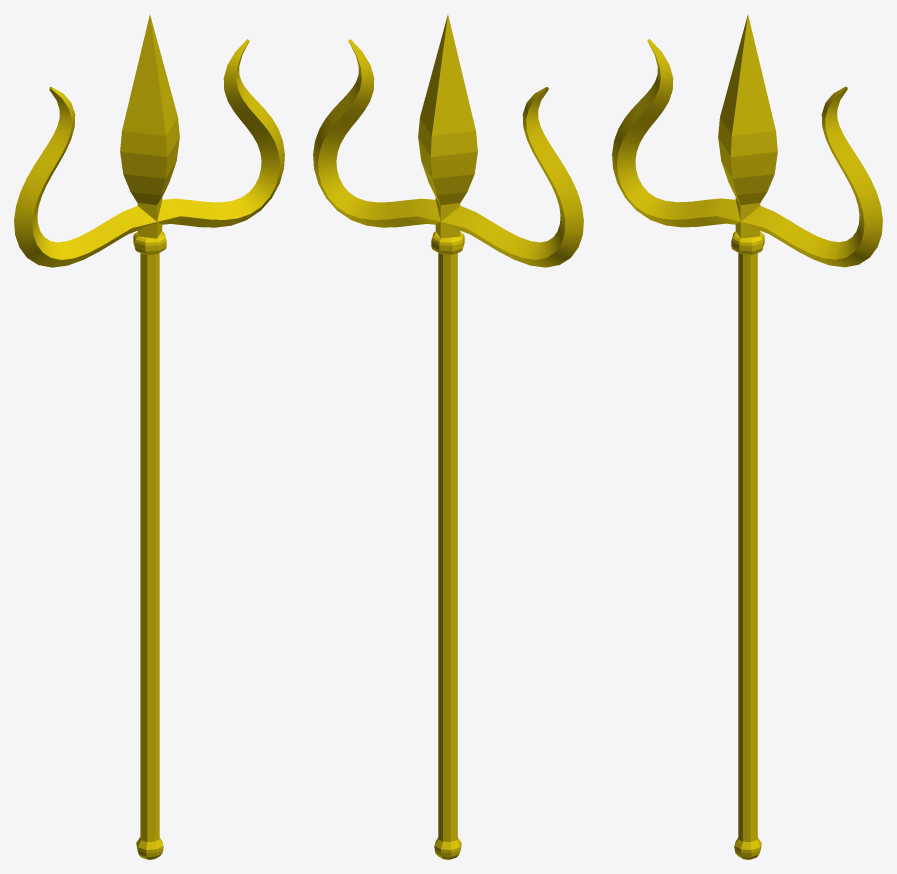
The model's file is tridente.fbx.
3 views of the same model, side by side, from view 1: azimuth 30°, elevation 25°; view 2: azimuth 150°, elevation 25°; view 3: azimuth 330°, elevation 25° (orthographic).
Visible parts, largest first — view 1: NurbsPath; view 2: NurbsPath; view 3: NurbsPath.
Boxes of the visible parts, bbox=[...] form: NurbsPath: bbox=[14, 15, 284, 859]; NurbsPath: bbox=[313, 15, 583, 859]; NurbsPath: bbox=[612, 15, 882, 859].
Bounding box in the file's own units: 74.58 × 222 × 16.47.
